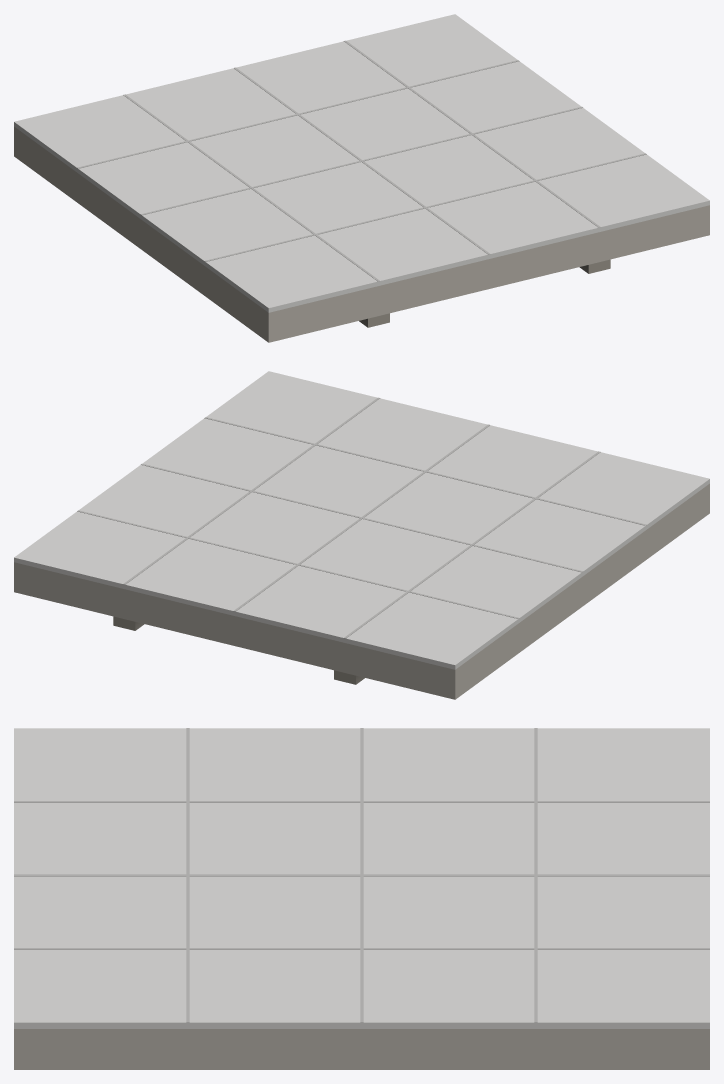
File: slab_floor_01.glb
The picture shows the model from 3 angles, top to bottom: view 1: azimuth 30°, elevation 25°; view 2: azimuth 150°, elevation 25°; view 3: azimuth 270°, elevation 25°; orthographic projection. The views are drawn at different scales.
Visible parts, largest first — view 1: slab_floor_01_mesh; view 2: slab_floor_01_mesh; view 3: slab_floor_01_mesh.
Boxes of the visible parts, left/top/right/bottom form: slab_floor_01_mesh: left=14, top=14, right=709, bottom=342; slab_floor_01_mesh: left=14, top=371, right=709, bottom=699; slab_floor_01_mesh: left=14, top=728, right=709, bottom=1069.
Size of the model in its own units: 4 by 0.382 by 4.
1 material, 1 textured.
